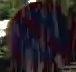No Stopping: (6, 2, 73, 71)
